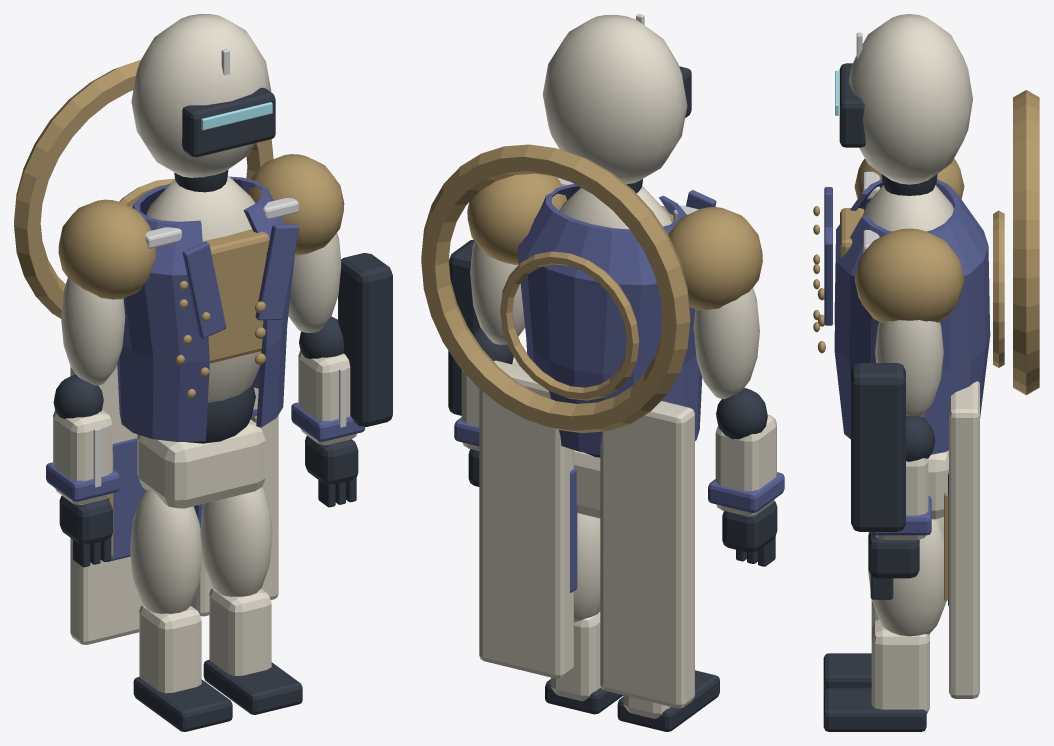
File: forecaster.glb
3 views of the same model, side by side, from view 1: azimuth 30°, elevation 25°; view 2: azimuth 150°, elevation 25°; view 3: azimuth 270°, elevation 25° (orthographic). The views are drawn at different scales.
Visible parts, largest first — view 1: Celestial navigator, Helmet, Oversize celestial instrument, Survey telescope, Pelvis, Shoulder R, Thigh R, Navigator long robe, Thigh L, Articulated thorax, Sternum shield, Shoulder L (+23 smaller); view 2: Navigator long robe, Navigator long robe.001, Oversize celestial instrument, Celestial navigator, Helmet, Shoulder R, Dorsal astrolabe, Upper arm R, Shoulder L, Bracer R, Upper arm L, Shin L (+13 smaller); view 3: Helmet, Celestial navigator, Navigator long robe.001, Survey telescope, Shoulder L, Oversize celestial instrument, Shin L, Thigh L, Upper arm L, Foot L, Articulated thorax, Hand L (+13 smaller).
Boxes of the visible parts, left/top/right/bottom form: Celestial navigator: left=117, top=176, right=294, bottom=441; Helmet: left=131, top=14, right=271, bottom=177; Oversize celestial instrument: left=14, top=60, right=273, bottom=318; Survey telescope: left=338, top=253, right=392, bottom=426; Pelvis: left=137, top=419, right=265, bottom=508; Shoulder R: left=58, top=199, right=156, bottom=299; Thigh R: left=130, top=489, right=202, bottom=613; Navigator long robe: left=70, top=364, right=142, bottom=644; Thigh L: left=200, top=486, right=272, bottom=596; Articulated thorax: left=146, top=175, right=261, bottom=402; Sternum shield: left=203, top=229, right=269, bottom=363; Shoulder L: left=247, top=154, right=344, bottom=255; Navigator long robe: left=600, top=401, right=694, bottom=708; Navigator long robe.001: left=479, top=360, right=573, bottom=678; Oversize celestial instrument: left=421, top=144, right=690, bottom=432; Celestial navigator: left=517, top=184, right=702, bottom=455; Helmet: left=542, top=15, right=687, bottom=184; Shoulder R: left=668, top=207, right=762, bottom=310; Dorsal astrolabe: left=500, top=251, right=639, bottom=400; Upper arm R: left=693, top=288, right=759, bottom=399; Shoulder L: left=467, top=173, right=566, bottom=264; Bracer R: left=715, top=414, right=776, bottom=516; Upper arm L: left=470, top=241, right=524, bottom=344; Shin L: left=551, top=611, right=600, bottom=701; Helmet: left=848, top=14, right=972, bottom=184; Celestial navigator: left=834, top=179, right=990, bottom=454; Navigator long robe.001: left=949, top=381, right=979, bottom=698; Survey telescope: left=851, top=363, right=905, bottom=531; Shoulder L: left=854, top=228, right=964, bottom=322; Oversize celestial instrument: left=1013, top=90, right=1039, bottom=395; Shin L: left=871, top=619, right=929, bottom=714; Thigh L: left=868, top=519, right=946, bottom=636; Upper arm L: left=875, top=320, right=943, bottom=417; Foot L: left=823, top=688, right=926, bottom=731; Articulated thorax: left=862, top=185, right=953, bottom=231; Hand L: left=868, top=532, right=919, bottom=578.
Size of the model in its own units: 1.07 by 2.2 by 0.659.
